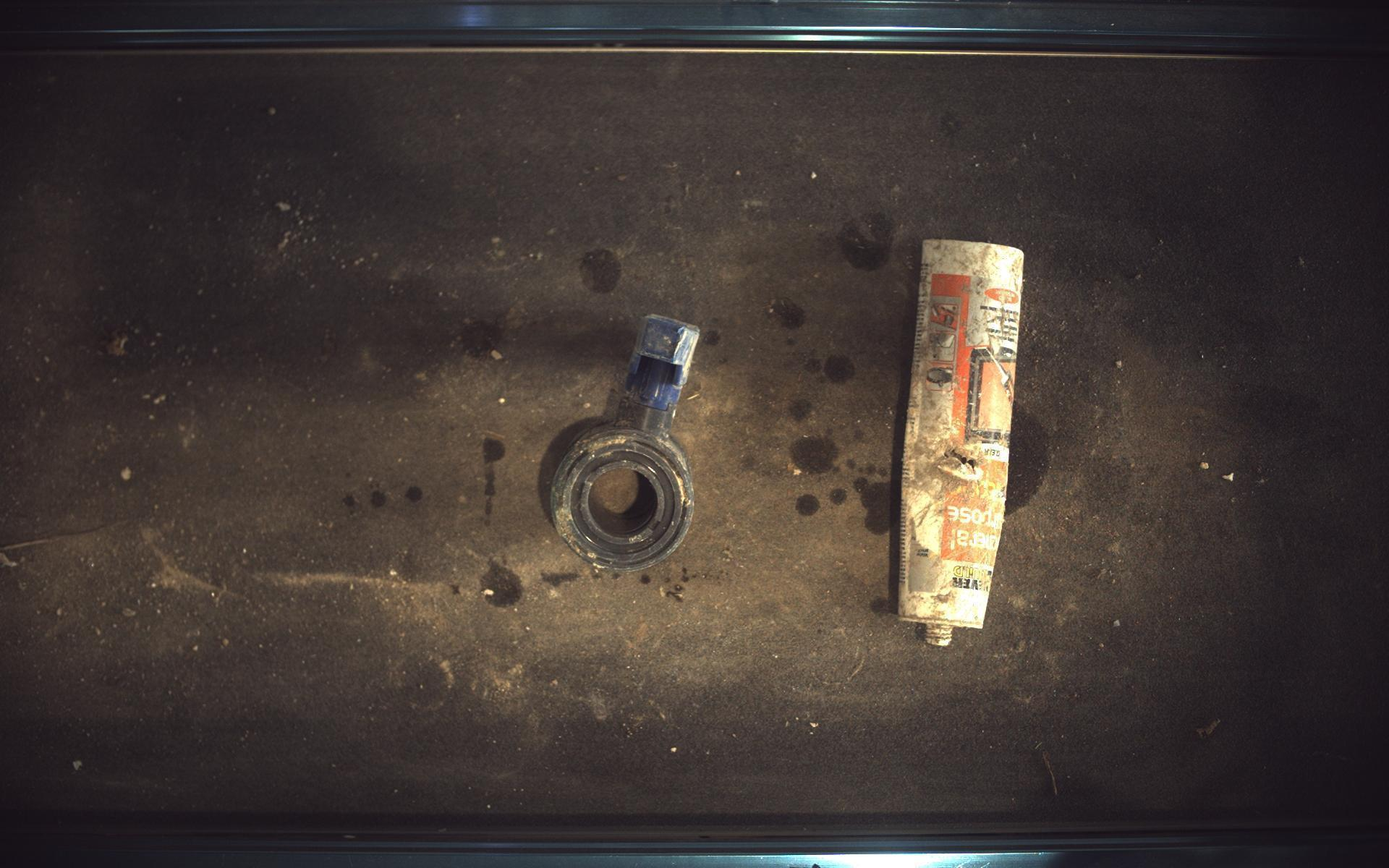plastic: (900, 239, 1027, 647), (551, 314, 701, 571)
